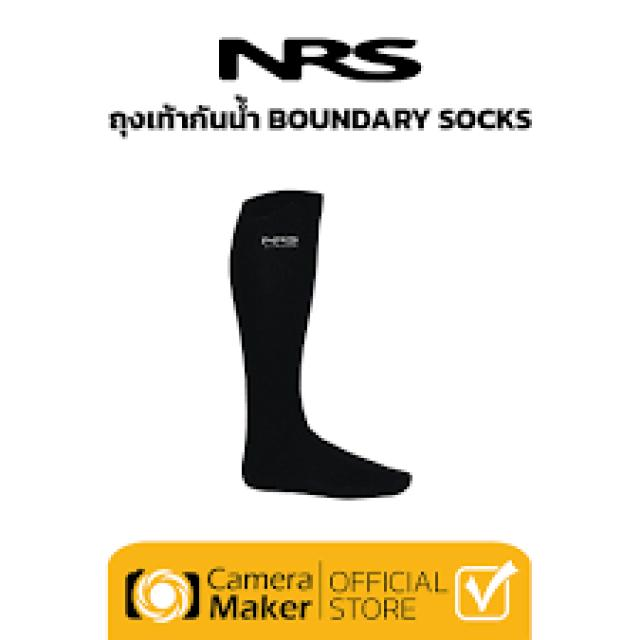sock: (228, 188, 410, 498)
